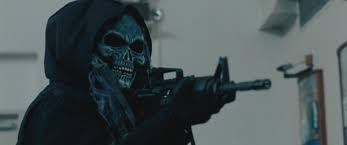rifle: (139, 55, 272, 123)
